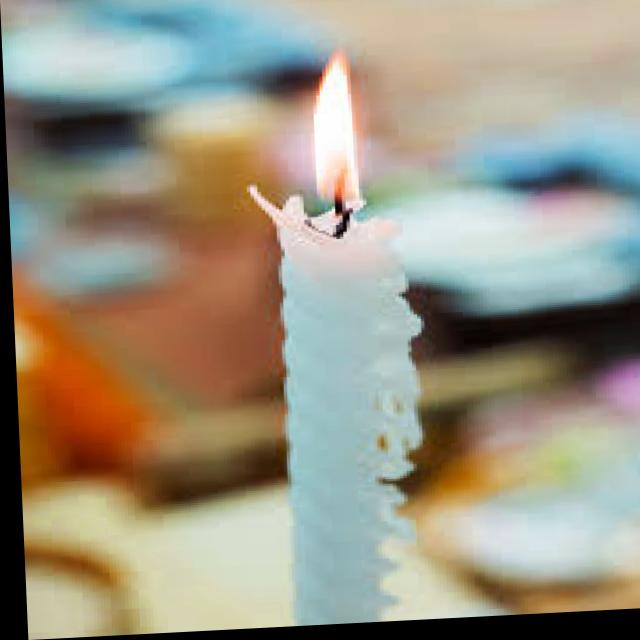fire: (278, 39, 375, 226)
